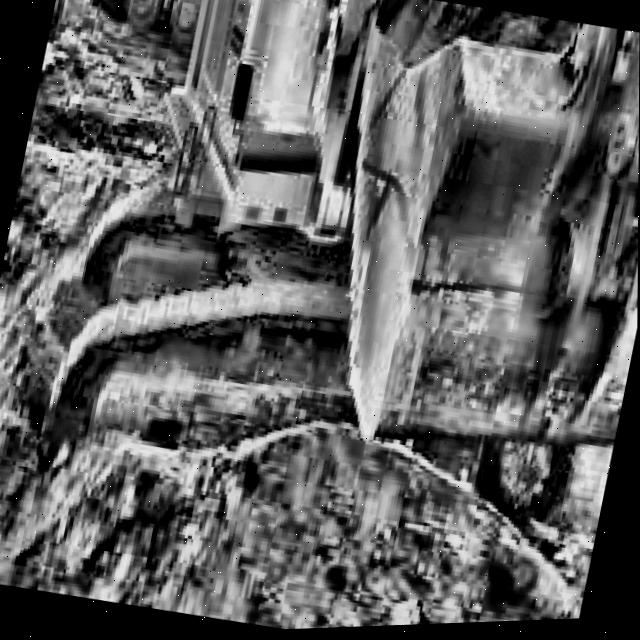dump_truck: (51, 0, 212, 56)
excavator: (26, 0, 640, 582)
